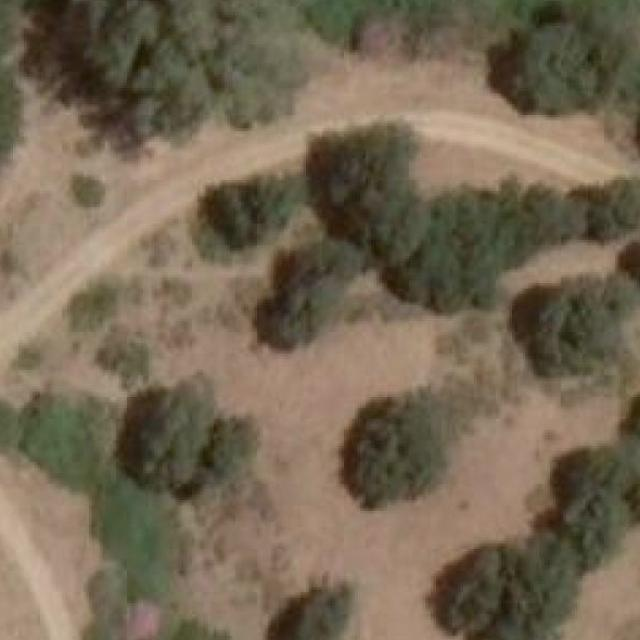Tree: (24, 0, 303, 139), (380, 186, 580, 297), (309, 124, 432, 248), (440, 536, 580, 640), (517, 276, 640, 378), (344, 392, 455, 503), (85, 477, 192, 589), (493, 17, 613, 113), (257, 247, 355, 354), (118, 381, 214, 489), (18, 383, 122, 477), (552, 444, 640, 555), (198, 174, 288, 240), (260, 587, 350, 640), (200, 416, 266, 482), (574, 175, 637, 232), (0, 69, 18, 183), (67, 170, 105, 210), (0, 395, 22, 452)
